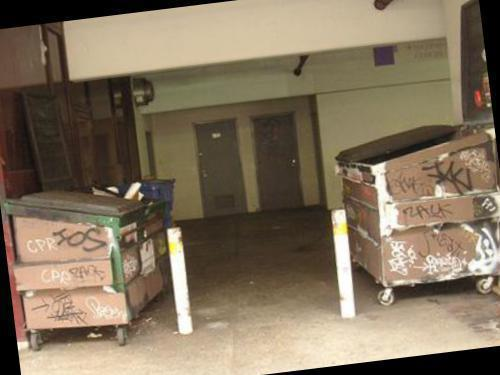Bote de Basura: (105, 174, 184, 272)
